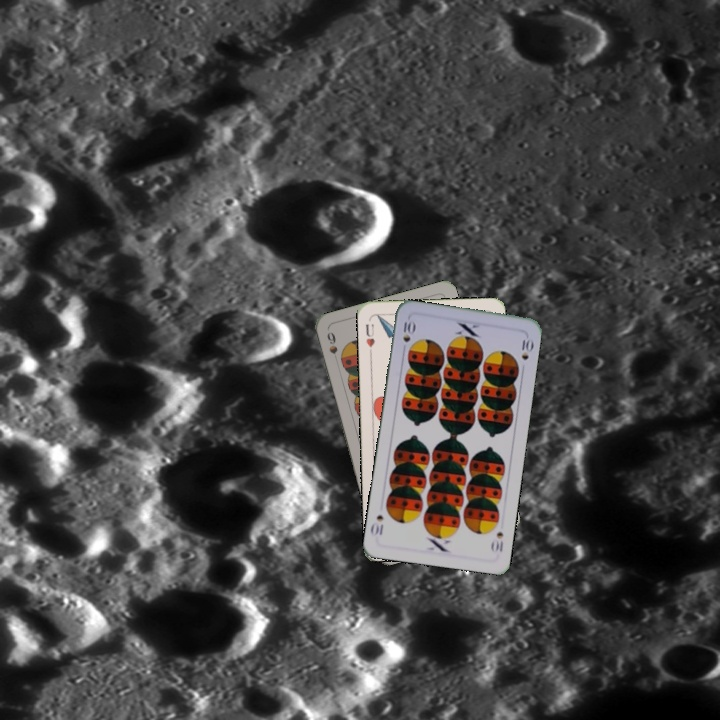HU: (362, 320, 377, 350)
S10: (487, 528, 506, 555), (399, 317, 417, 345)
S9: (323, 327, 340, 365)
